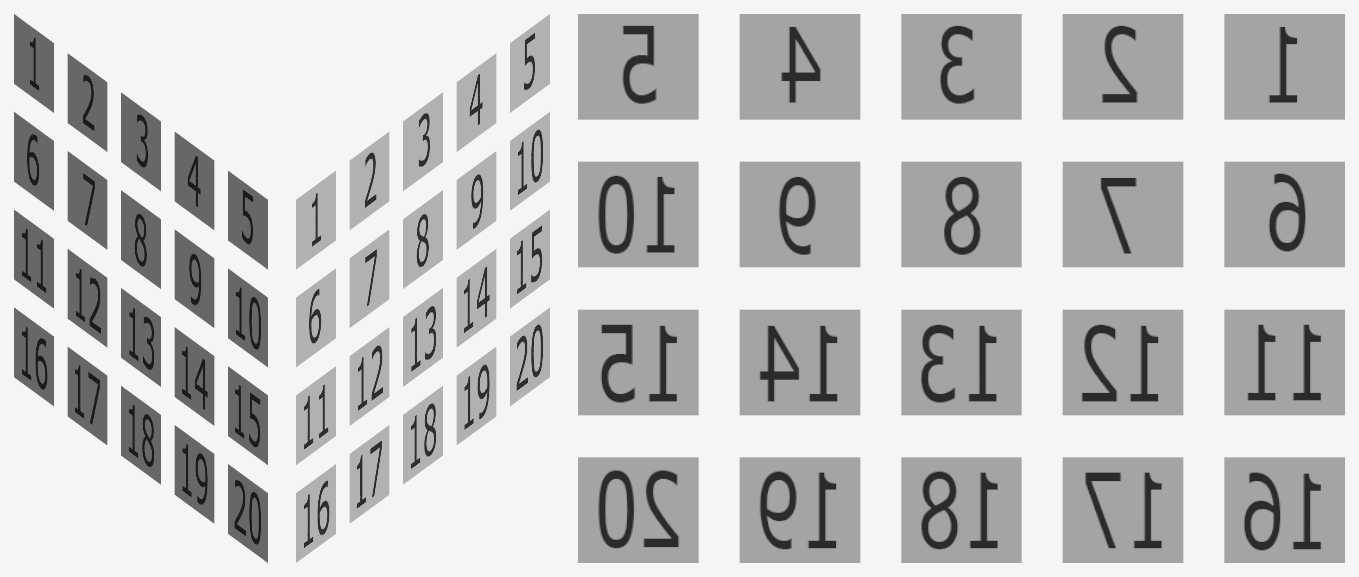
Rendered from tamle1-20.fbx.
The picture shows the model from 3 angles, left to right: view 1: azimuth 30°, elevation 25°; view 2: azimuth 150°, elevation 25°; view 3: azimuth 270°, elevation 25°; orthographic projection. The views are drawn at different scales.
Parts seen in each view (by area): view 1: tabl_rows.007, tabl_rows.014, tabl_rows.002, tabl_rows.009, tabl_rows.012, tabl_rows.019, tabl_rows.004, tabl_rows.017, tabl_rows.005, tabl_rows.016, tabl_rows.003, tabl_rows.010 (+8 smaller); view 2: tabl_rows.009, tabl_rows.012, tabl_rows.004, tabl_rows.007, tabl_rows.014, tabl_rows.017, tabl_rows.002, tabl_rows.019, tabl_rows.001, tabl_rows.020, tabl_rows.003, tabl_rows.006 (+8 smaller); view 3: tabl_rows.007, tabl_rows.009, tabl_rows.012, tabl_rows.014, tabl_rows.006, tabl_rows.008, tabl_rows.010, tabl_rows.011, tabl_rows.013, tabl_rows.015, tabl_rows.002, tabl_rows.004 (+8 smaller).
Part boxes in pixels (<box>): tabl_rows.007: <box>67,151,107,249</box>; tabl_rows.014: <box>174,327,214,425</box>; tabl_rows.002: <box>67,53,107,151</box>; tabl_rows.009: <box>174,229,214,327</box>; tabl_rows.012: <box>67,249,107,347</box>; tabl_rows.019: <box>174,425,214,523</box>; tabl_rows.004: <box>174,132,214,229</box>; tabl_rows.017: <box>67,347,107,444</box>; tabl_rows.005: <box>228,171,267,269</box>; tabl_rows.016: <box>14,307,53,405</box>; tabl_rows.003: <box>121,92,160,190</box>; tabl_rows.010: <box>228,268,267,366</box>; tabl_rows.009: <box>456,151,496,249</box>; tabl_rows.012: <box>349,327,389,425</box>; tabl_rows.004: <box>456,53,496,151</box>; tabl_rows.007: <box>349,229,389,327</box>; tabl_rows.014: <box>456,249,496,347</box>; tabl_rows.017: <box>349,425,389,523</box>; tabl_rows.002: <box>349,132,389,229</box>; tabl_rows.019: <box>456,347,496,444</box>; tabl_rows.001: <box>296,171,335,269</box>; tabl_rows.020: <box>510,307,549,405</box>; tabl_rows.003: <box>403,92,442,190</box>; tabl_rows.006: <box>296,268,335,366</box>; tabl_rows.007: <box>1062,161,1183,267</box>; tabl_rows.009: <box>739,161,860,267</box>; tabl_rows.012: <box>1062,309,1183,415</box>; tabl_rows.014: <box>739,309,860,415</box>; tabl_rows.006: <box>1224,161,1344,267</box>; tabl_rows.008: <box>901,161,1021,267</box>; tabl_rows.010: <box>578,161,698,267</box>; tabl_rows.011: <box>1224,309,1344,415</box>; tabl_rows.013: <box>901,309,1021,415</box>; tabl_rows.015: <box>578,309,698,415</box>; tabl_rows.002: <box>1062,14,1183,119</box>; tabl_rows.004: <box>739,14,860,119</box>.
Size of the model in its own units: 1.68e-08 by 0.1659 by 0.2101.
